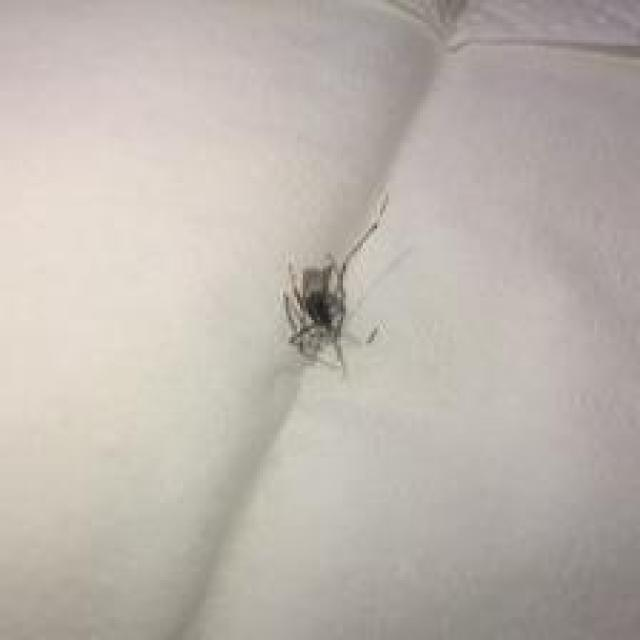Aedes albopictus: (278, 187, 393, 379)
